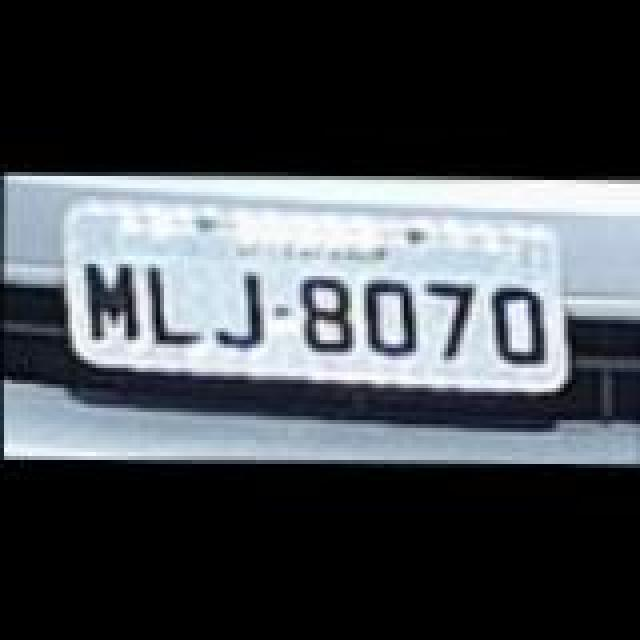7: (420, 280, 488, 360)
8: (292, 274, 360, 354)
D: (486, 284, 558, 364), (360, 278, 428, 354)
J: (212, 266, 272, 342)
L: (146, 264, 210, 344)
M: (84, 258, 144, 342)
